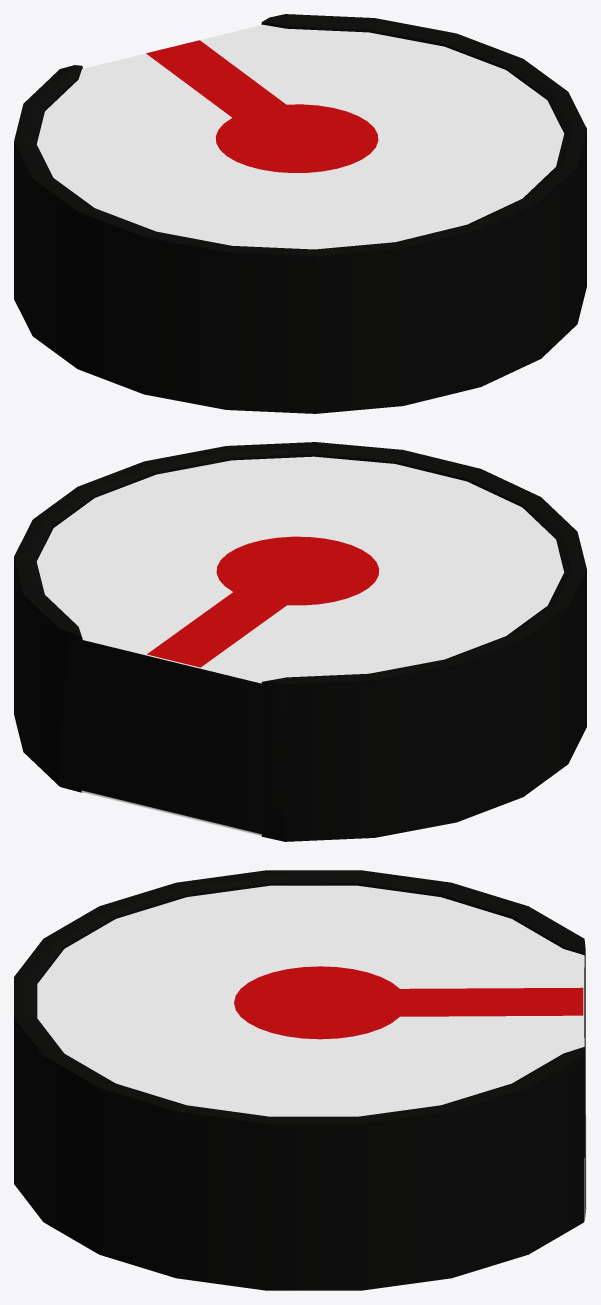
File: Stairs.fbx
The picture shows the model from 3 angles, top to bottom: view 1: azimuth 30°, elevation 25°; view 2: azimuth 150°, elevation 25°; view 3: azimuth 270°, elevation 25°; orthographic projection. The views are drawn at different scales.
Visible parts, largest first — view 1: Stairs; view 2: Stairs; view 3: Stairs.
Part boxes in pixels (x1=…): Stairs: x1=14, y1=14, x2=586, y2=413; Stairs: x1=14, y1=442, x2=586, y2=841; Stairs: x1=14, y1=870, x2=586, y2=1290.
Bounding box in the file's own units: 2078 × 638 × 1985.
